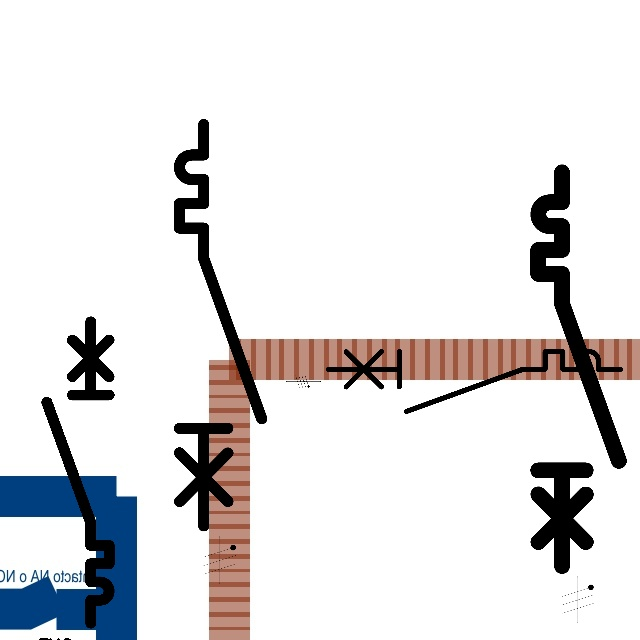interruptor_termomagnetico: (169, 114, 272, 536), (528, 162, 629, 576), (39, 314, 117, 631), (320, 344, 627, 419)
